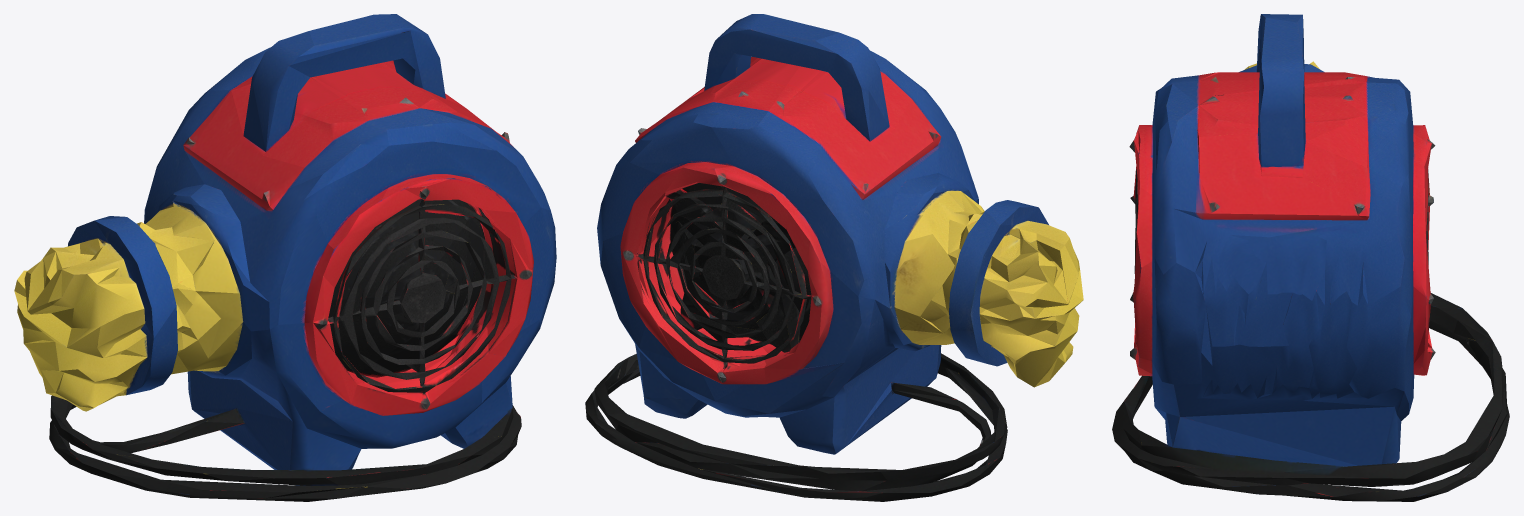
The model's file is blower_fan.glb.
The picture shows the model from 3 angles, left to right: view 1: azimuth 30°, elevation 25°; view 2: azimuth 150°, elevation 25°; view 3: azimuth 270°, elevation 25°; orthographic projection. The views are drawn at different scales.
Bounding box in the file's own units: 1.9 × 1.55 × 1.42.
1 material, 1 textured.
